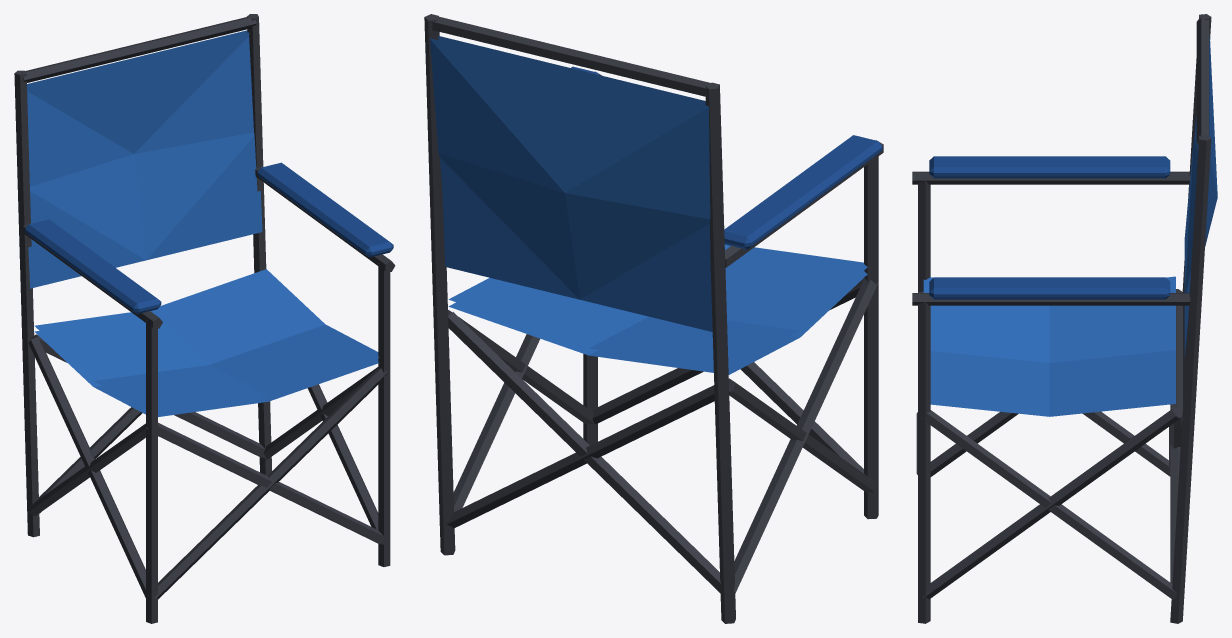
File: Prop_FoldingChair.fbx
The picture shows the model from 3 angles, left to right: view 1: azimuth 30°, elevation 25°; view 2: azimuth 150°, elevation 25°; view 3: azimuth 270°, elevation 25°; orthographic projection. The views are drawn at different scales.
Visible parts, largest first — view 1: Prop_FoldingChair; view 2: Prop_FoldingChair; view 3: Prop_FoldingChair.
Boxes of the visible parts, x1,y1,x2,y2 form: Prop_FoldingChair: (14,14,395,623); Prop_FoldingChair: (424,14,883,623); Prop_FoldingChair: (912,14,1217,623).
Bounding box in the file's own units: 0.56 × 0.9321 × 0.5329.
